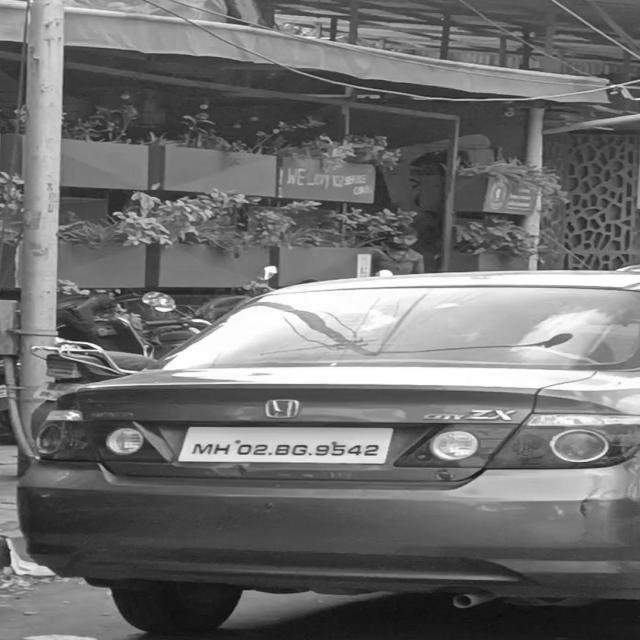car: (0, 261, 640, 635)
license-plate: (186, 431, 392, 469)
